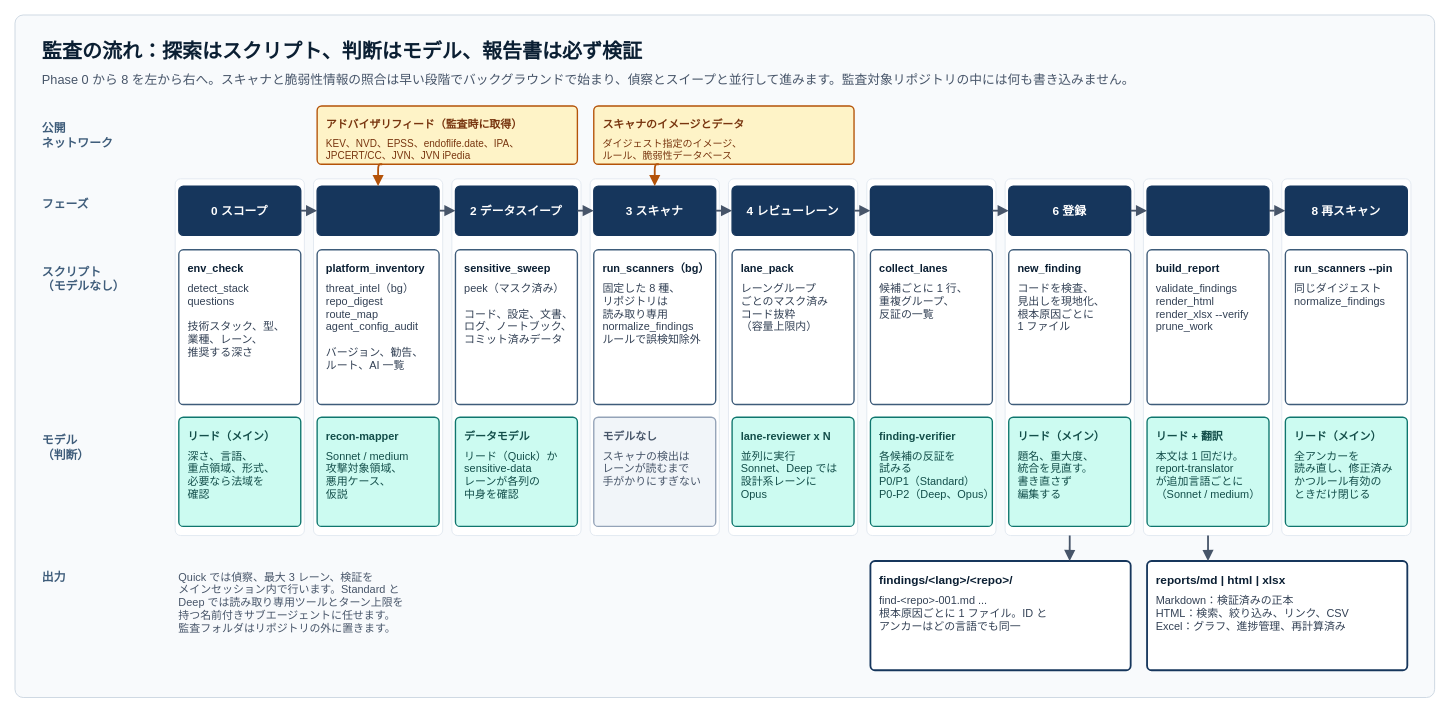
The diagram is 1450 pixels wide and 713 high, and some of its shapes have lost their labels. The box of each missing label's shape, as (x1, y1, x2, y2) in pixels:
1 偵察 + 脅威情報: (316, 185, 439, 236)
5 トリアージ + 検証: (869, 185, 993, 236)
7 報告書: (1146, 185, 1269, 236)
